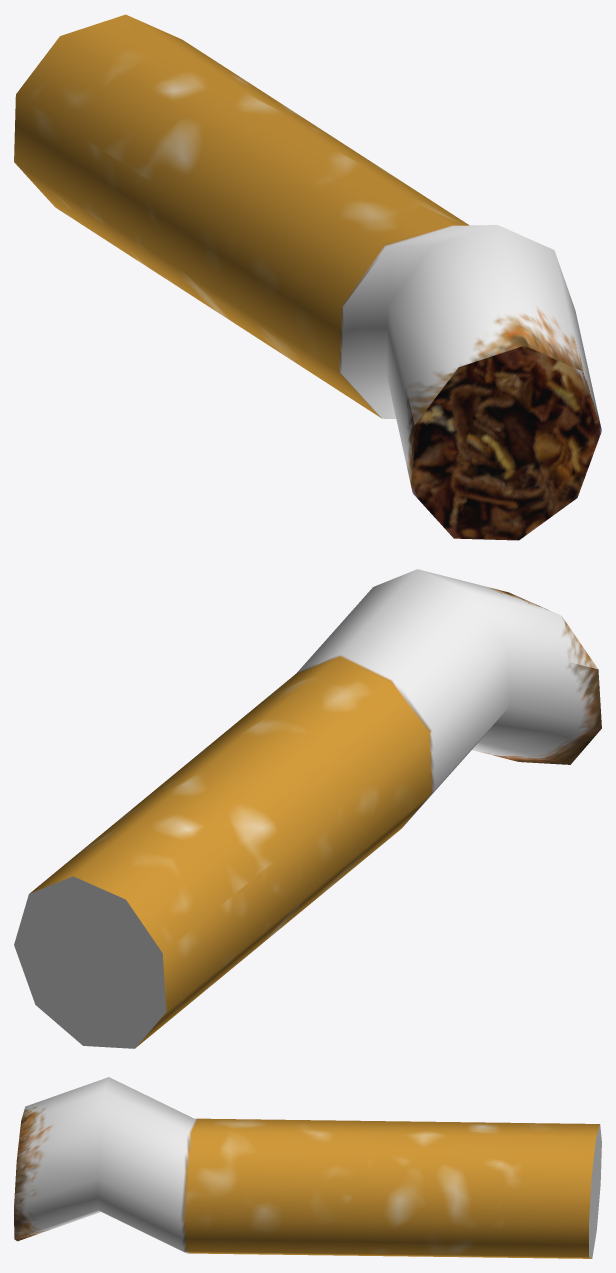
The model's file is cigaretteUsed2.fbx.
3 views of the same model, one above another, from view 1: azimuth 30°, elevation 25°; view 2: azimuth 150°, elevation 25°; view 3: azimuth 270°, elevation 25° (orthographic). The views are drawn at different scales.
Visible parts, largest first — view 1: cigaretteUsed2; view 2: cigaretteUsed2; view 3: cigaretteUsed2.
Boxes of the visible parts, bbox=[...] form: cigaretteUsed2: bbox=[14, 14, 601, 540]; cigaretteUsed2: bbox=[14, 569, 601, 1048]; cigaretteUsed2: bbox=[14, 1077, 601, 1258].
Size of the model in its own units: 0.0183 by 0.019 by 0.0602.
Materials: 1 (1 with a texture image).
